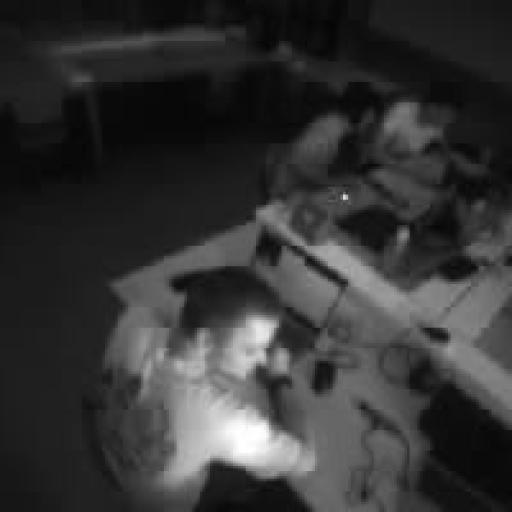human: (95, 267, 314, 511), (272, 82, 383, 199), (367, 82, 483, 186)
